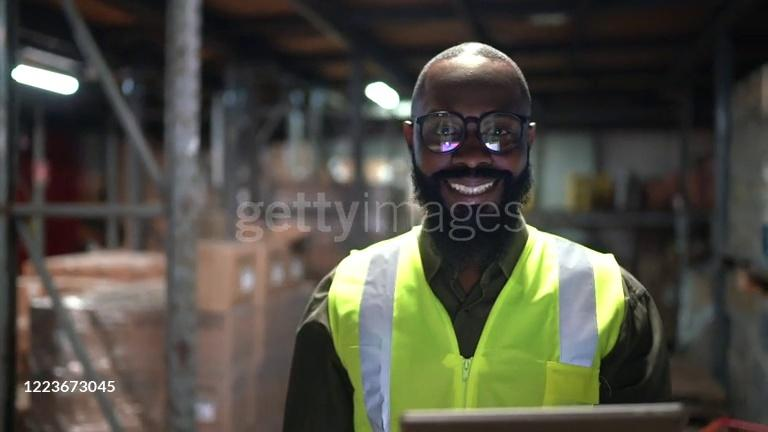person: (282, 41, 672, 432)
